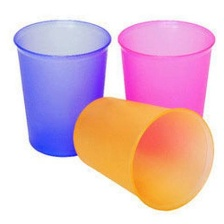glass: (68, 89, 217, 213), (5, 9, 116, 163), (114, 17, 220, 145)
